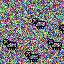sheep: (31, 17, 47, 30), (24, 51, 40, 63), (2, 39, 17, 51), (48, 39, 63, 51)
